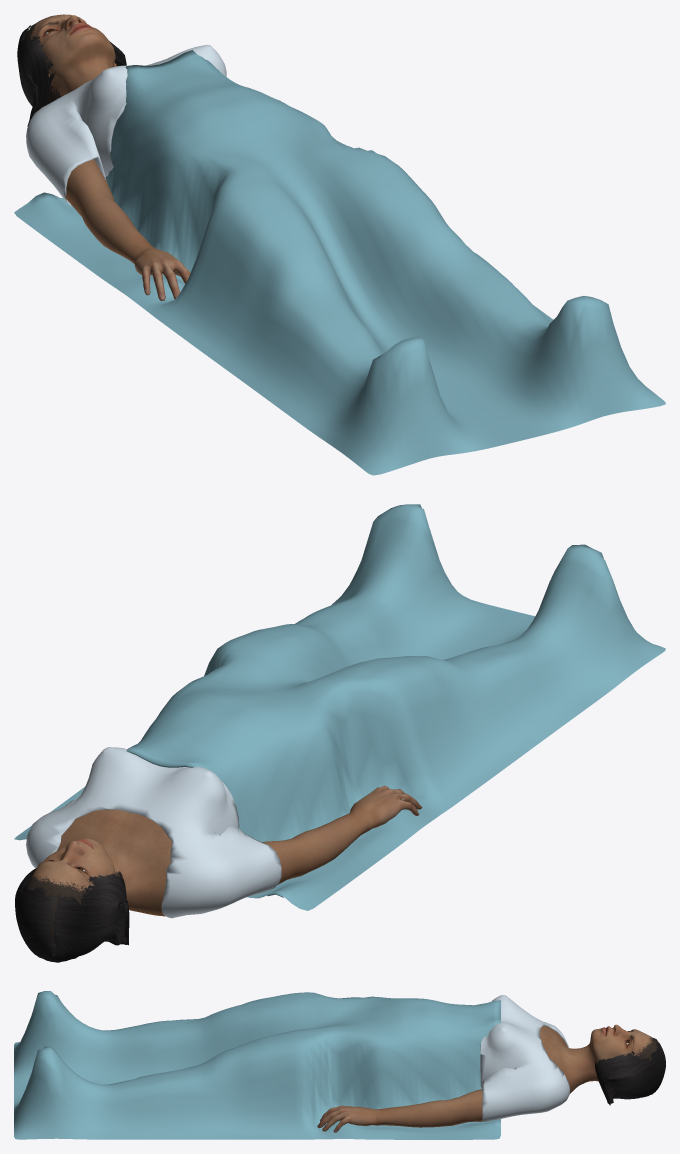
3 views of the same model, one above another, from view 1: azimuth 30°, elevation 25°; view 2: azimuth 150°, elevation 25°; view 3: azimuth 270°, elevation 25° (orthographic). The views are drawn at different scales.
Visible parts, largest first — view 1: sheet, gown, arms, body, hair; view 2: sheet, gown, body, hair, arms; view 3: sheet, gown, arms, body, hair.
Part boxes in pixels (x1,y1,x2,y2): sheet: [14, 50, 665, 475]; gown: [26, 44, 226, 206]; arms: [65, 159, 190, 300]; body: [23, 14, 116, 103]; hair: [17, 23, 126, 126]; sheet: [14, 504, 665, 910]; gown: [26, 747, 281, 918]; body: [26, 809, 172, 956]; hair: [15, 868, 129, 962]; arms: [262, 785, 422, 884]; sheet: [14, 991, 500, 1139]; gown: [480, 995, 569, 1121]; arms: [317, 1089, 482, 1132]; body: [540, 1024, 657, 1093]; hair: [594, 1038, 665, 1105].
Size of the model in its own units: 0.6393 by 0.2577 by 1.8.
8 materials, 6 textured.
